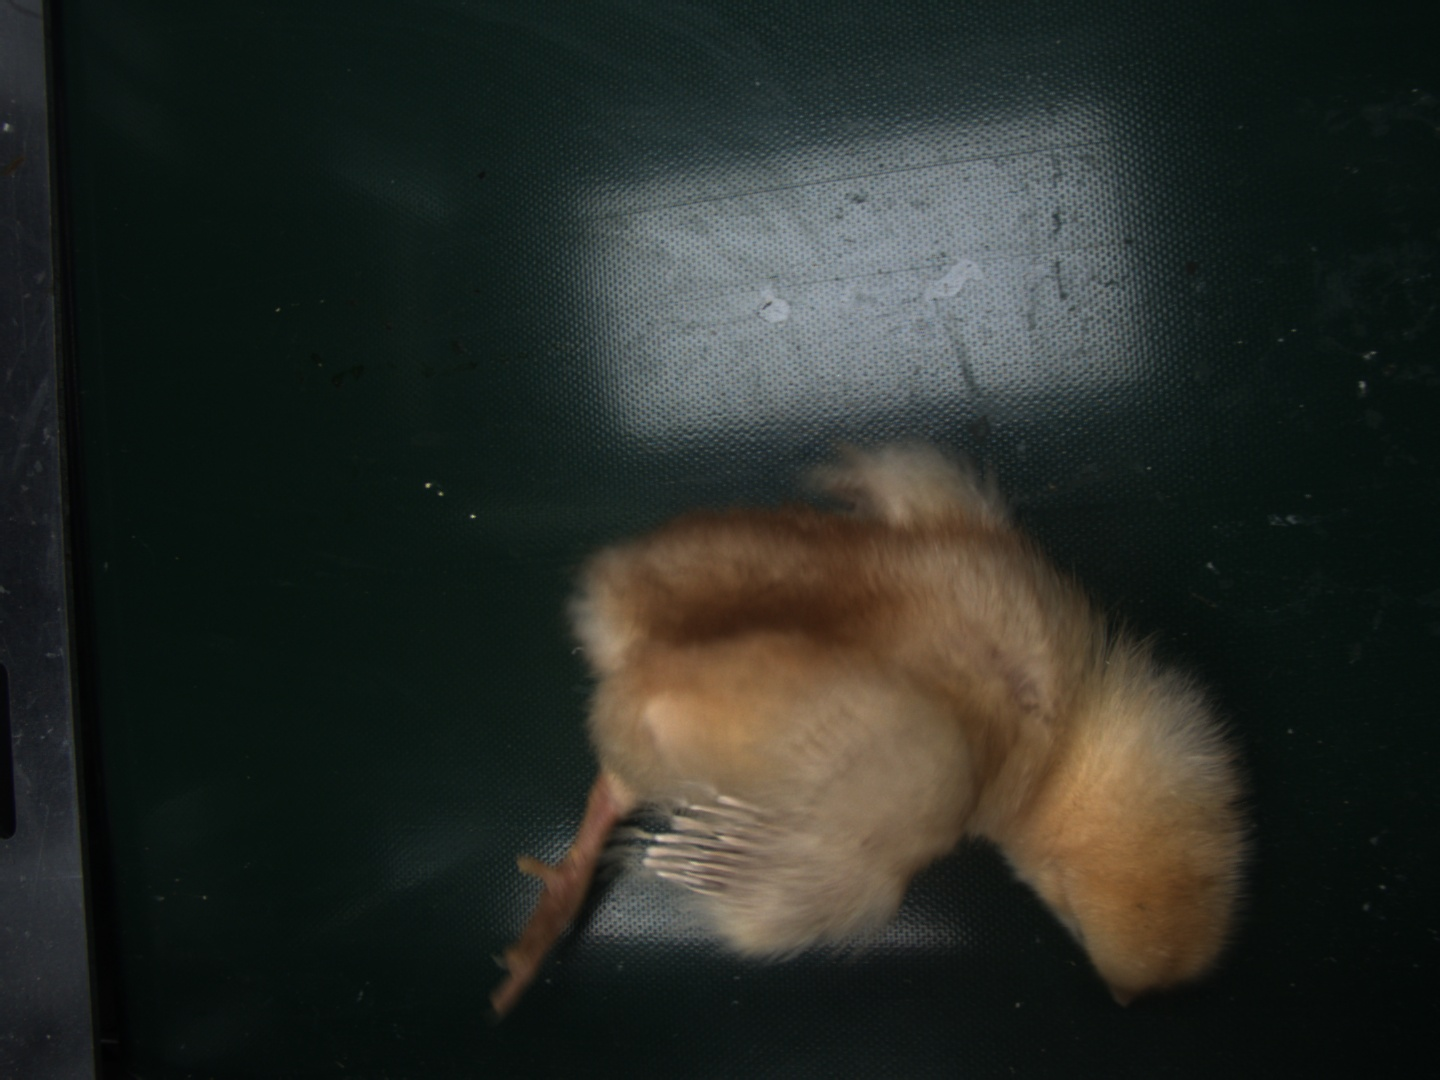female: (639, 792, 760, 898)
